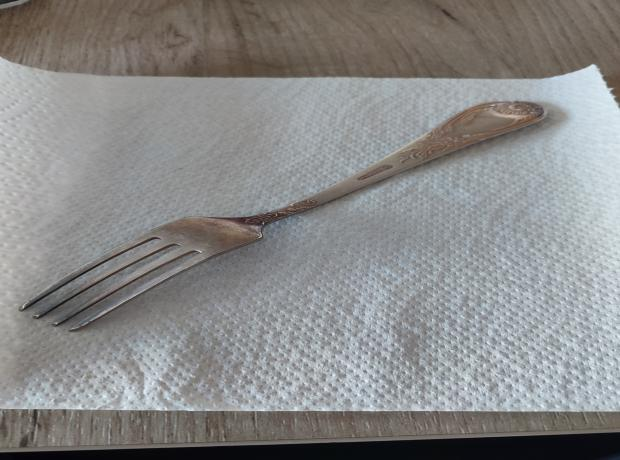metal: (16, 100, 550, 332)
